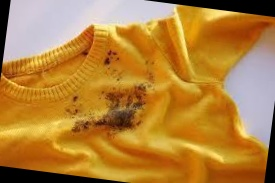earth: (100, 86, 146, 132), (71, 121, 91, 134), (105, 49, 119, 67), (69, 96, 80, 116)
